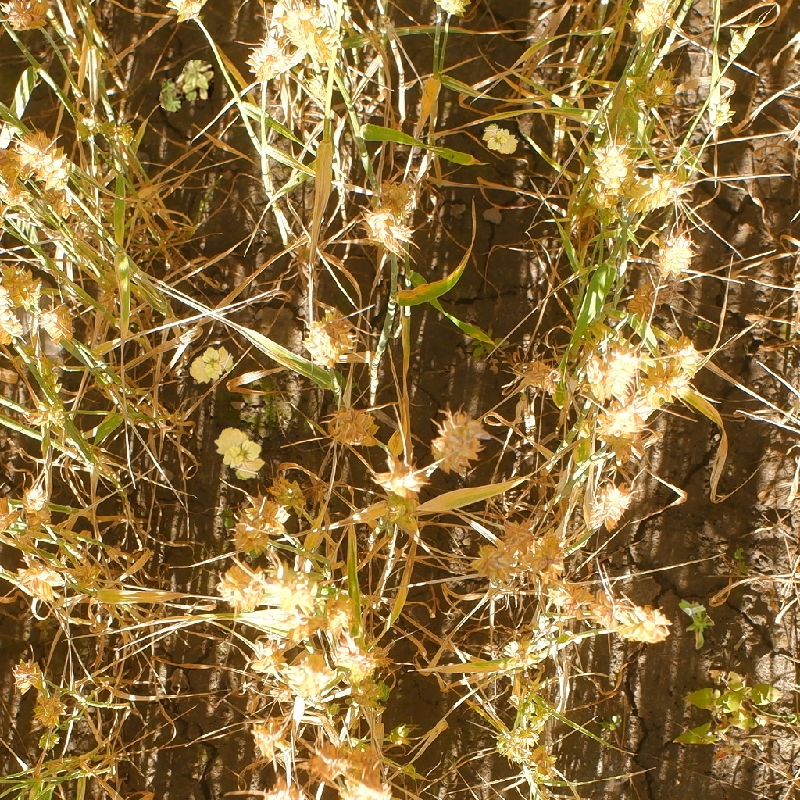spikelet: (428, 410, 483, 474), (312, 1, 351, 64), (611, 602, 669, 643), (18, 143, 69, 189), (326, 404, 378, 446), (365, 210, 412, 255), (217, 570, 267, 611), (17, 555, 57, 605), (599, 402, 650, 441), (634, 173, 683, 212), (246, 38, 289, 82), (587, 485, 629, 530), (285, 663, 328, 706), (472, 543, 518, 582), (593, 141, 629, 190), (523, 531, 565, 573), (231, 514, 271, 556), (301, 324, 339, 367), (604, 351, 639, 397), (521, 745, 560, 786), (494, 726, 534, 763), (631, 1, 673, 35), (659, 236, 693, 276), (335, 646, 375, 680), (1, 275, 21, 339), (339, 779, 397, 800), (350, 676, 386, 709), (381, 468, 421, 497), (34, 395, 67, 429), (11, 660, 41, 697), (705, 94, 733, 129), (33, 698, 64, 728), (671, 143, 702, 172), (165, 1, 207, 22), (22, 488, 50, 519), (432, 1, 470, 18)
weed: (159, 60, 215, 113), (214, 427, 267, 480), (677, 590, 723, 650), (187, 339, 237, 390), (482, 117, 522, 154)
